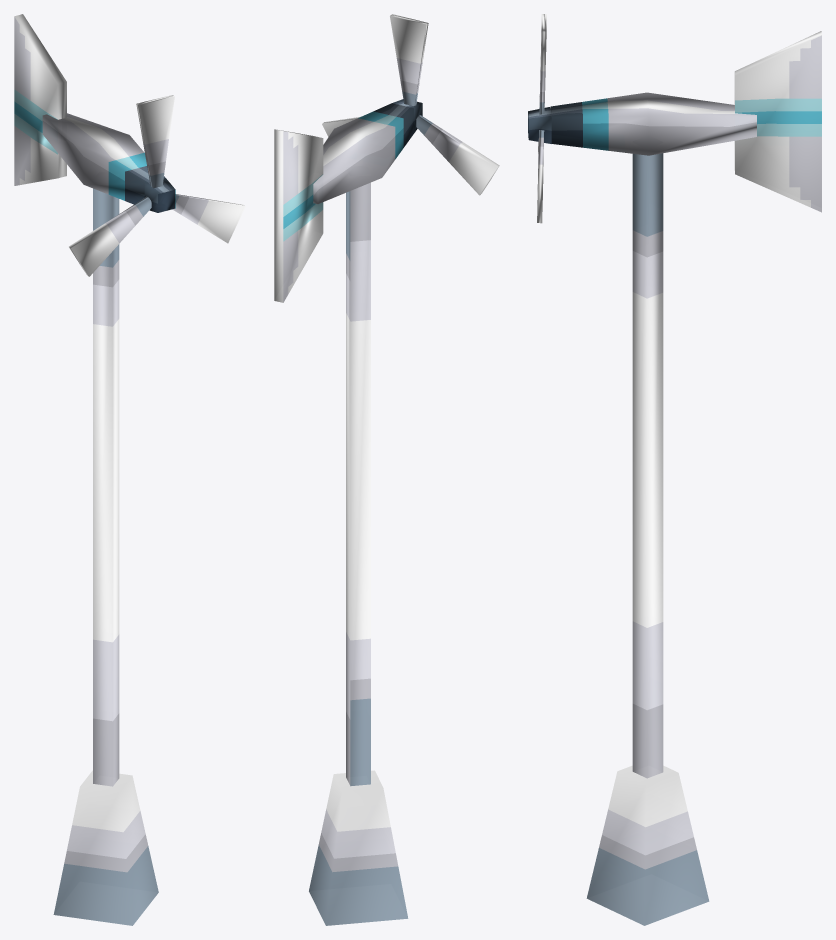
The model's file is EditedWindmill 1.glb.
3 renders of one model, left to right at view 1: azimuth 30°, elevation 25°; view 2: azimuth 150°, elevation 25°; view 3: azimuth 270°, elevation 25°, orthographic. The views are drawn at different scales.
Parts seen in each view (by area): view 1: Windmill-post, Windmill-head, Windmill.fan; view 2: Windmill-post, Windmill-head, Windmill.fan; view 3: Windmill-post, Windmill-head, Windmill.fan.
Part boxes in pixels (x1,y1,x2,y2): Windmill-post: (53,188,158,925); Windmill-head: (14,14,165,204); Windmill.fan: (69,95,245,276); Windmill-post: (309,182,408,925); Windmill-head: (274,103,413,302); Windmill.fan: (322,14,499,195); Windmill-post: (586,153,709,925); Windmill-head: (551,31,821,212); Windmill.fan: (528,14,551,223).
Size of the model in its own units: 19.32 by 89.01 by 27.05.
Materials: 1 (1 with a texture image).
